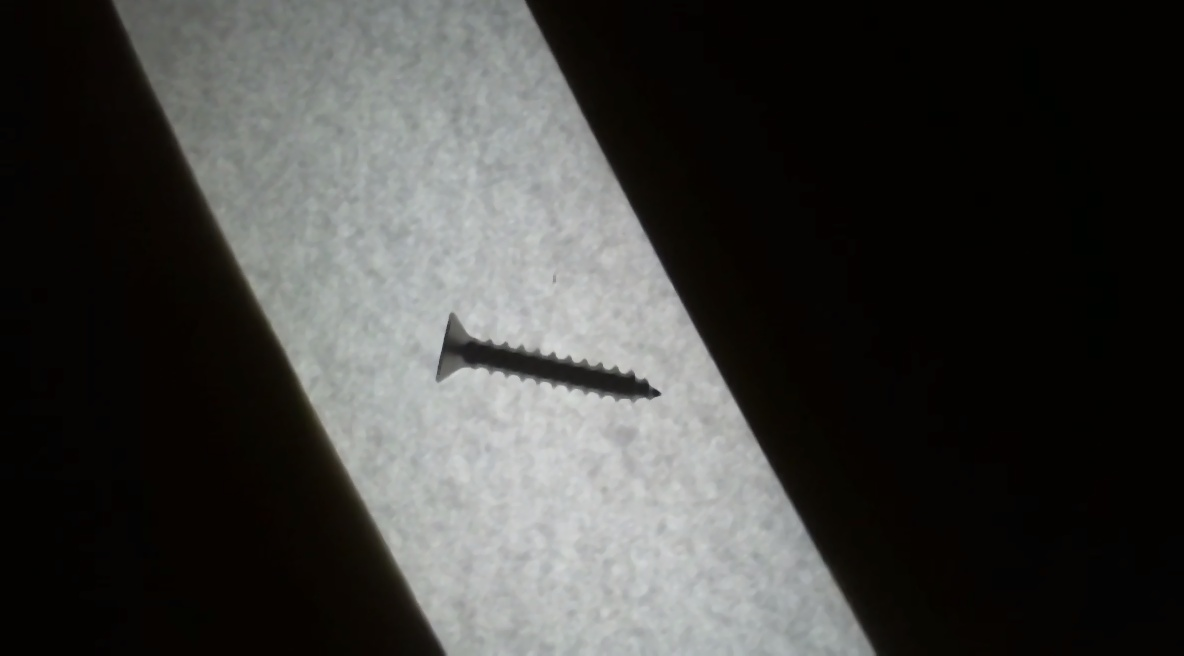S001: (421, 291, 675, 436)
